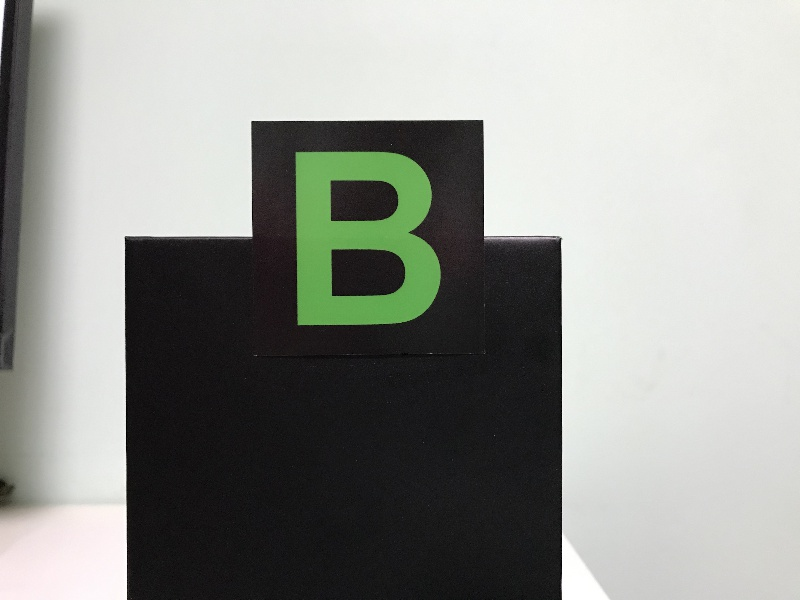B-12: (256, 125, 483, 353)
